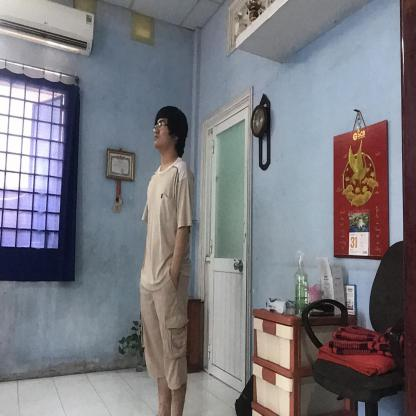person: (136, 101, 193, 412)
